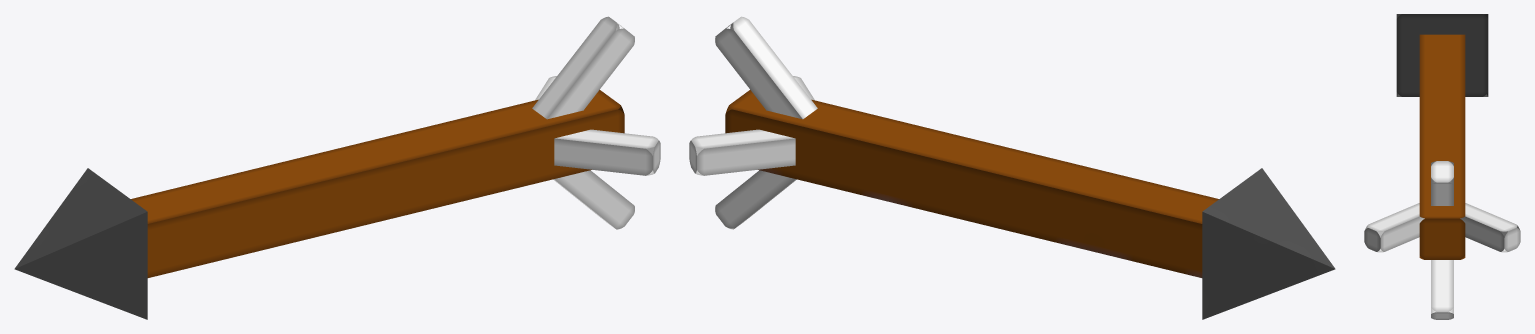
Rendered from Flecha.fbx.
3 renders of one model, left to right at view 1: azimuth 30°, elevation 25°; view 2: azimuth 150°, elevation 25°; view 3: azimuth 270°, elevation 25°, orthographic. The views are drawn at different scales.
Visible parts, largest first — view 1: Cuerpo, Punta, Pluma1, Pluma3, Pluma2; view 2: Cuerpo, Punta, Pluma1, Pluma4, Pluma2; view 3: Cuerpo, Punta, Pluma3, Pluma4, Pluma2, Pluma1.
Part boxes in pixels (box(x1,y1,x2,y2)): Cuerpo: box(131, 90, 624, 277); Punta: box(14, 168, 147, 319); Pluma1: box(532, 16, 634, 119); Pluma3: box(554, 129, 660, 175); Pluma2: box(553, 170, 634, 229); Cuerpo: box(725, 90, 1218, 277); Punta: box(1202, 168, 1335, 319); Pluma1: box(715, 16, 817, 119); Pluma4: box(689, 129, 795, 175); Pluma2: box(715, 170, 796, 229); Cuerpo: box(1419, 34, 1465, 259); Punta: box(1396, 14, 1488, 96); Pluma3: box(1364, 203, 1424, 252); Pluma4: box(1460, 203, 1520, 252); Pluma2: box(1431, 260, 1453, 319); Pluma1: box(1431, 161, 1453, 205).
Bounding box in the file's own units: 74.46 × 23.93 × 21.34.
Materials: 1 (1 with a texture image).
